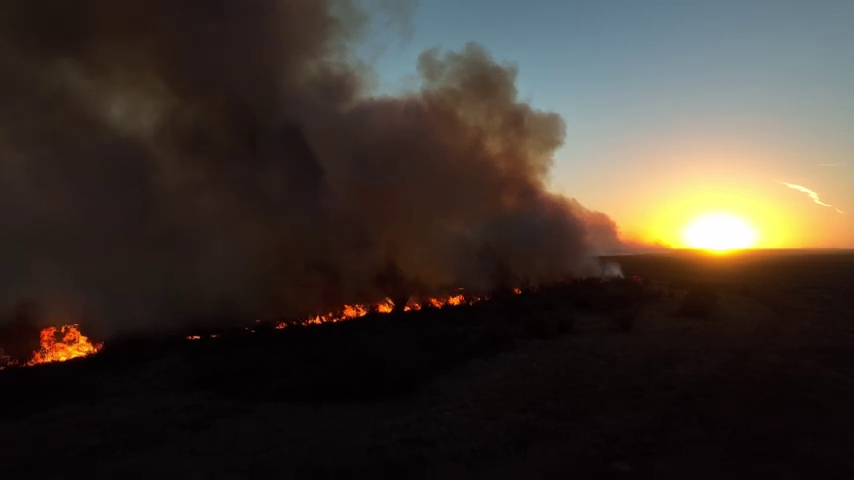forest_fire: (23, 324, 103, 365), (297, 298, 394, 324), (427, 293, 479, 306), (404, 300, 421, 311)
